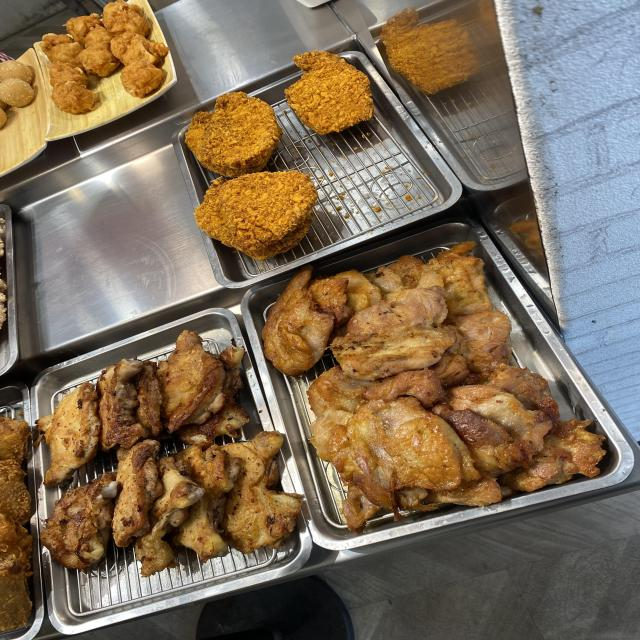Chicken Leg Steak: (336, 306, 494, 482)
